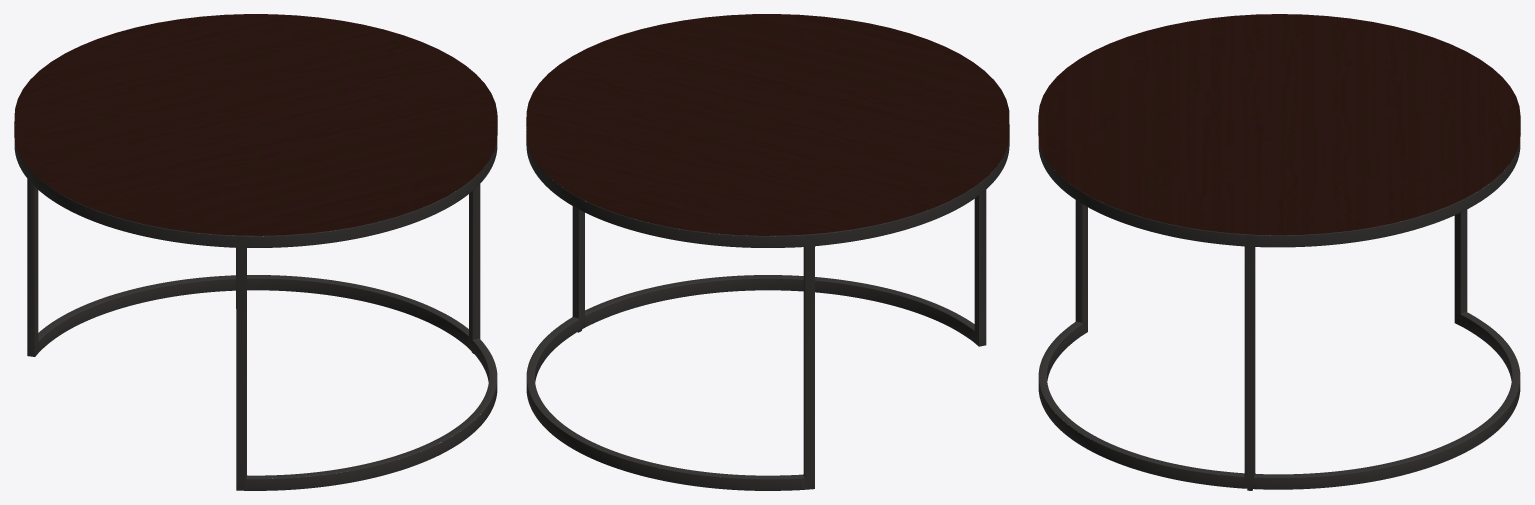
3 views of the same model, side by side, from view 1: azimuth 30°, elevation 25°; view 2: azimuth 150°, elevation 25°; view 3: azimuth 270°, elevation 25° (orthographic).
Parts seen in each view (by area): view 1: C-skpD418, C-skpD418.022, C-skpD418.002, C-skpD418.015, C-skpD418.040, C-skpD418.075, C-skpD418.018, C-skpD418.023, C-skpD418.055, C-skpD418.050; view 2: C-skpD418, C-skpD418.042, C-skpD418.002, C-skpD418.021, C-skpD418.040, C-skpD418.075, C-skpD418.018, C-skpD418.023, C-skpD418.019, C-skpD418.049; view 3: C-skpD418, C-skpD418.041, C-skpD418.002, C-skpD418.018, C-skpD418.022, C-skpD418.042, C-skpD418.023, C-skpD418.015, C-skpD418.021, C-skpD418.026, C-skpD418.017.
Boxes of the visible parts, bbox=[...] form: C-skpD418: bbox=[14, 14, 497, 217]; C-skpD418.022: bbox=[195, 160, 489, 490]; C-skpD418.002: bbox=[14, 124, 497, 235]; C-skpD418.015: bbox=[34, 187, 314, 356]; C-skpD418.040: bbox=[314, 191, 489, 382]; C-skpD418.075: bbox=[14, 140, 195, 244]; C-skpD418.018: bbox=[38, 275, 468, 340]; C-skpD418.023: bbox=[246, 339, 497, 478]; C-skpD418.055: bbox=[27, 179, 34, 356]; C-skpD418.050: bbox=[472, 184, 480, 339]; C-skpD418: bbox=[526, 14, 1009, 217]; C-skpD418.042: bbox=[535, 162, 827, 490]; C-skpD418.002: bbox=[526, 124, 1009, 235]; C-skpD418.021: bbox=[705, 195, 979, 346]; C-skpD418.040: bbox=[534, 210, 705, 382]; C-skpD418.075: bbox=[828, 138, 1009, 244]; C-skpD418.018: bbox=[526, 317, 804, 478]; C-skpD418.023: bbox=[585, 275, 974, 330]; C-skpD418.019: bbox=[979, 190, 986, 346]; C-skpD418.049: bbox=[572, 206, 579, 318]; C-skpD418: bbox=[1038, 14, 1520, 217]; C-skpD418.041: bbox=[1110, 205, 1451, 489]; C-skpD418.002: bbox=[1038, 124, 1520, 235]; C-skpD418.018: bbox=[1255, 312, 1520, 477]; C-skpD418.022: bbox=[1038, 139, 1110, 459]; C-skpD418.042: bbox=[1451, 139, 1520, 458]; C-skpD418.023: bbox=[1038, 321, 1244, 476]; C-skpD418.015: bbox=[1454, 213, 1511, 380]; C-skpD418.021: bbox=[1047, 204, 1087, 383]; C-skpD418.026: bbox=[1076, 200, 1082, 323]; C-skpD418.017: bbox=[1460, 209, 1466, 314].
Size of the model in its own units: 0.6995 by 0.44 by 0.7.
2 materials, 1 textured.
